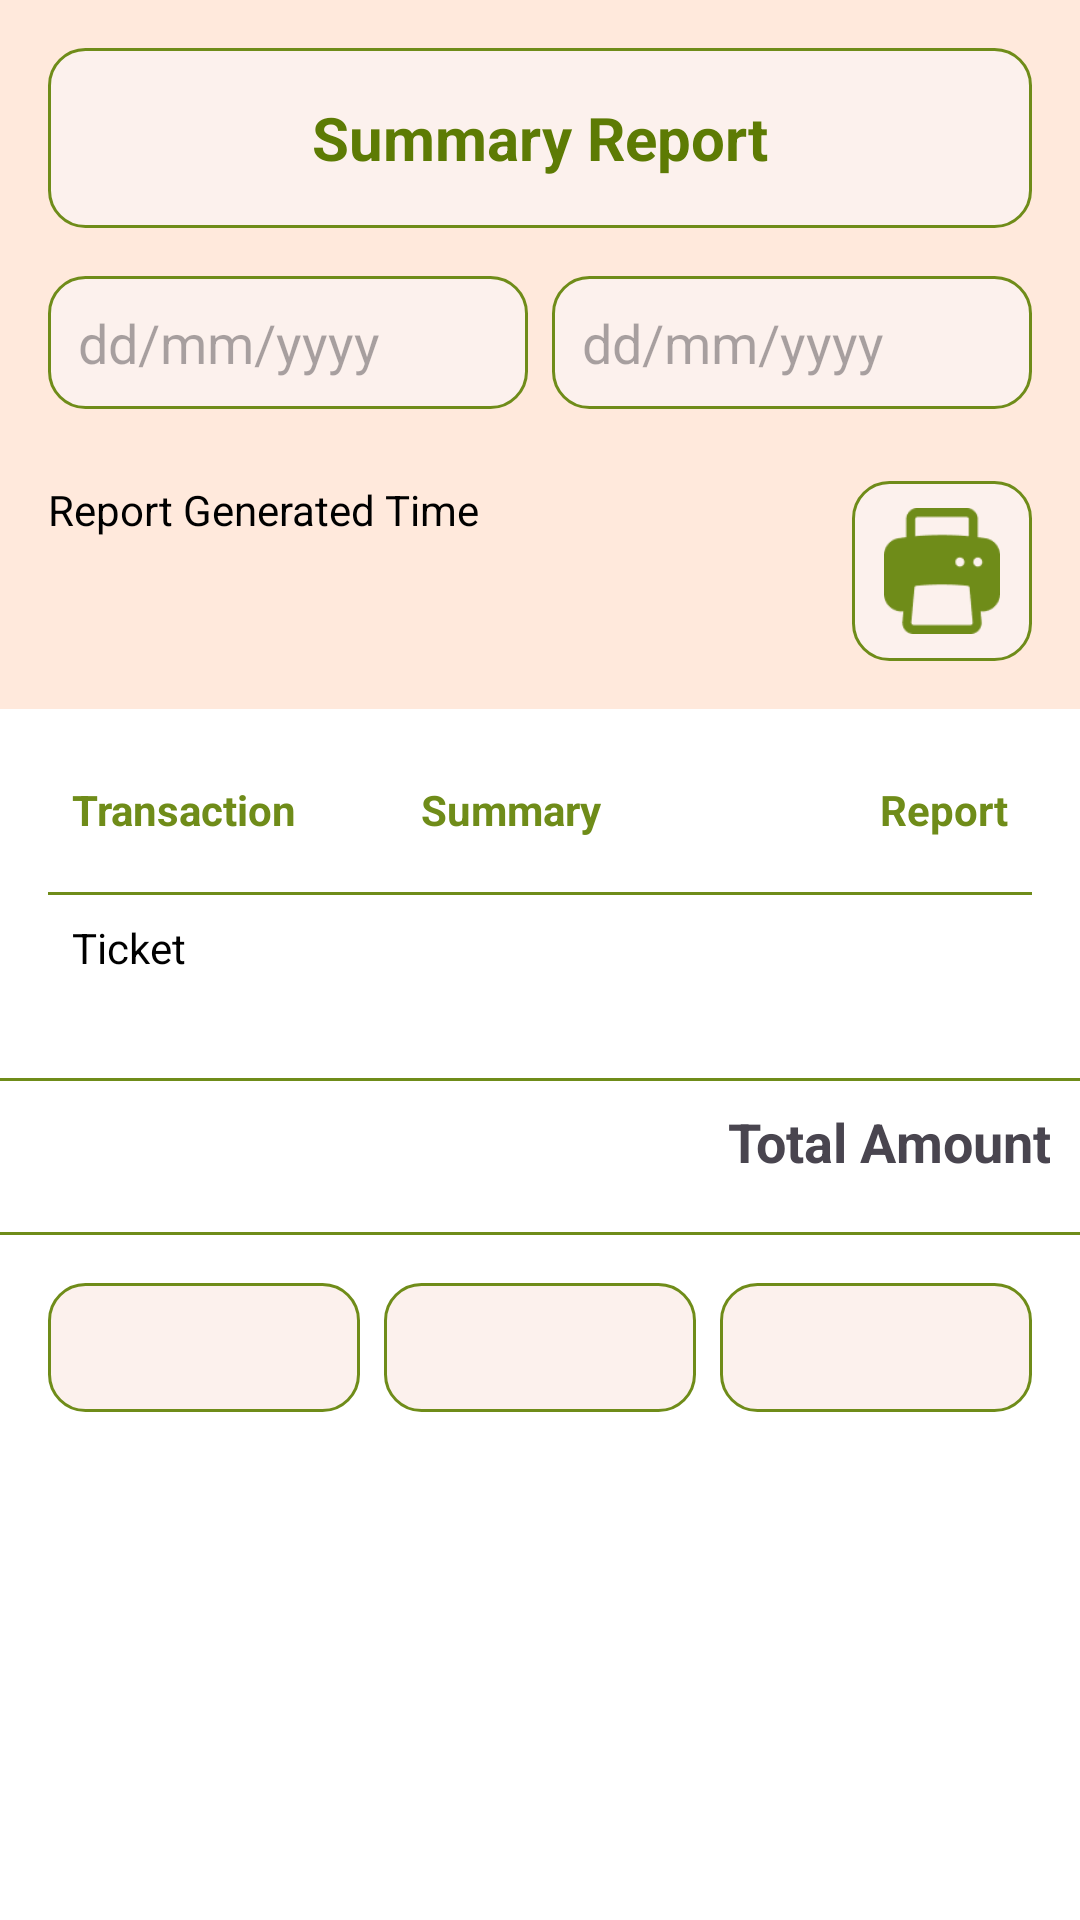

Icon bounding boxes for this 1080*1920 phone screenshot, format region(x1, y1, x2, y2):
Print: region(884, 508, 1000, 634)
